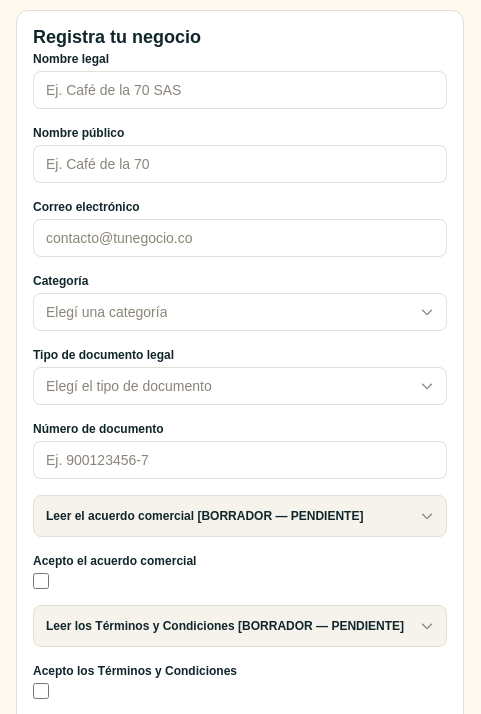
Test case: RegisterForm › terms & conditions acceptance (issue #24) › keeps the placeholder terms body hidden until the <summary> disclosure is expanded
Click the heading "Leer los Términos y Condiciones [BORRADOR — PENDIENTE]".
click(240, 626)  # box [46,618,434,634]
(page scrolled)
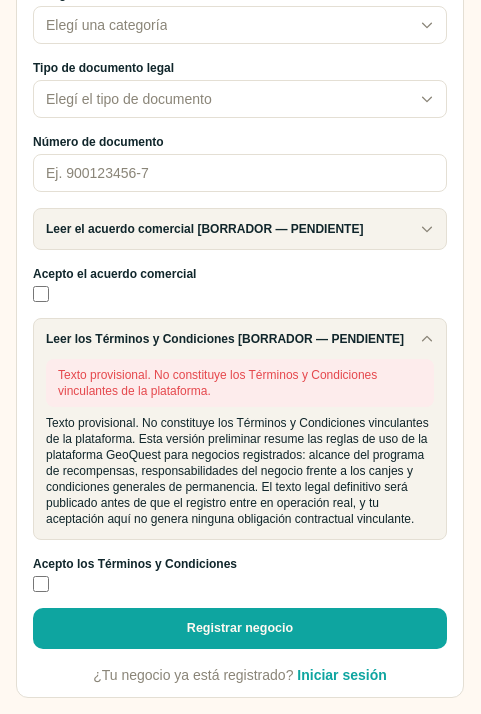
Result: the text "Esta versión preliminar resume" is shown at [46,416,429,526]
